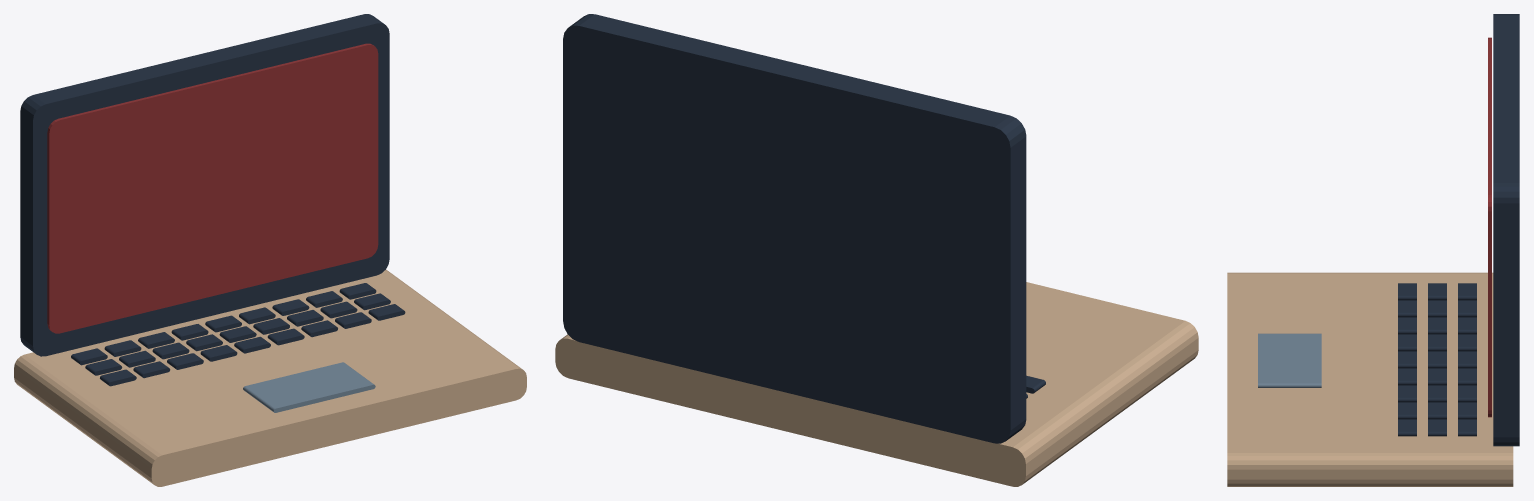
The model's file is laptop.glb.
The picture shows the model from 3 angles, left to right: view 1: azimuth 30°, elevation 25°; view 2: azimuth 150°, elevation 25°; view 3: azimuth 270°, elevation 25°; orthographic projection. The views are drawn at different scales.
Parts seen in each view (by area): view 1: display glass, base, display bezel, trackpad; view 2: display bezel, base; view 3: base, display bezel, trackpad, display glass, key 0-0, key 0-1, key 0-2, key 0-3, key 0-4, key 0-5, key 0-6, key 0-7 (+19 smaller).
Part boxes in pixels (left/top/right/bottom): display glass: left=47, top=43, right=378, bottom=333; base: left=14, top=269, right=526, bottom=486; display bezel: left=20, top=14, right=389, bottom=356; trackpad: left=243, top=362, right=375, bottom=412; display bezel: left=563, top=14, right=1026, bottom=443; base: left=555, top=282, right=1198, bottom=486; base: left=1227, top=272, right=1513, bottom=486; display bezel: left=1493, top=14, right=1519, bottom=446; trackpad: left=1258, top=333, right=1321, bottom=387; display glass: left=1488, top=37, right=1491, bottom=417; key 0-0: left=1458, top=283, right=1476, bottom=300; key 0-1: left=1458, top=300, right=1476, bottom=317; key 0-2: left=1458, top=317, right=1476, bottom=334; key 0-3: left=1458, top=334, right=1476, bottom=351; key 0-4: left=1458, top=351, right=1476, bottom=368; key 0-5: left=1458, top=368, right=1476, bottom=385; key 0-6: left=1458, top=385, right=1476, bottom=402; key 0-7: left=1458, top=402, right=1476, bottom=419.
Bounding box in the file's own units: 1.62 × 1.18 × 1.05.
